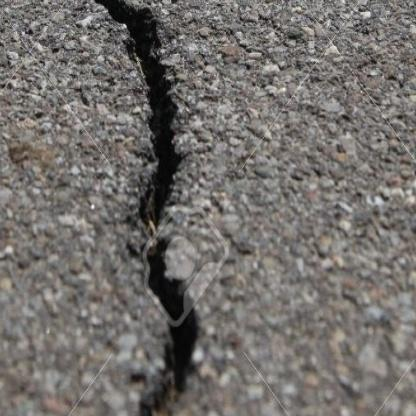Cracks: (79, 0, 188, 229), (144, 237, 200, 416)
